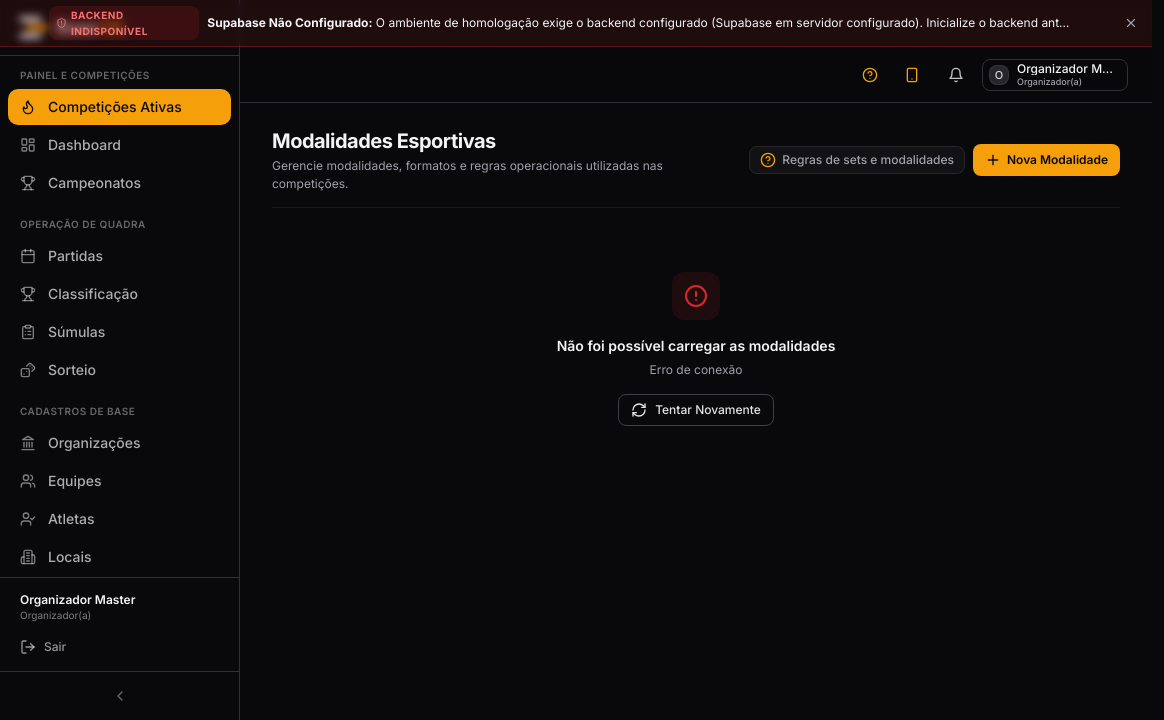
Test case: ModalitiesPage Component (Fase 8.3) › exibe estado de erro com retry quando o carregamento falha
Expected: the message "Não foi possível carregar as modalidades Erro de conexão Tentar Novamente" is shown, [557,272,835,426]
Expected: the text "Não foi possível carregar as modalidades" is shown, [557,336,835,356]
Click the button "Tentar Novamente". click: (696, 410)
box: [618,394,774,426]
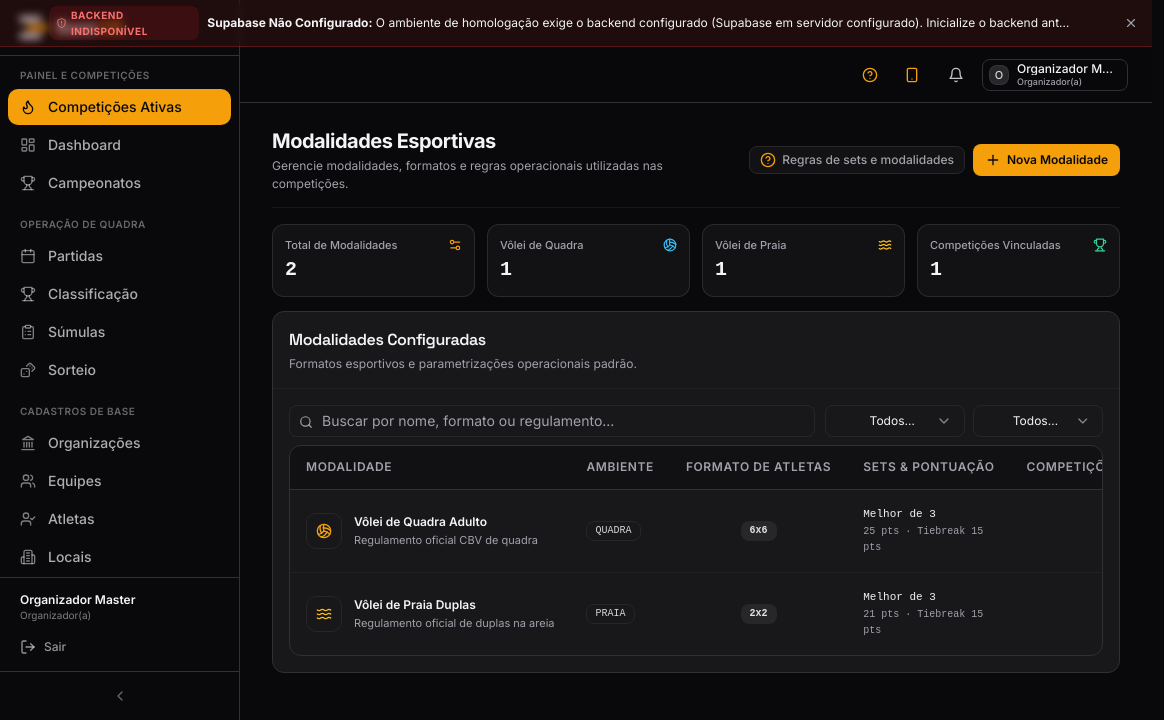
Result: the text "Vôlei de Quadra Adulto" is shown at [354,514,487,529]
